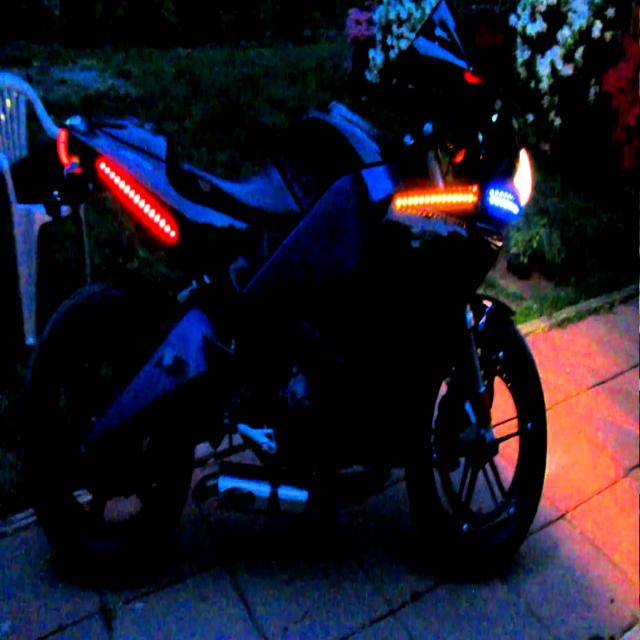Motorbike: (21, 2, 570, 561)
